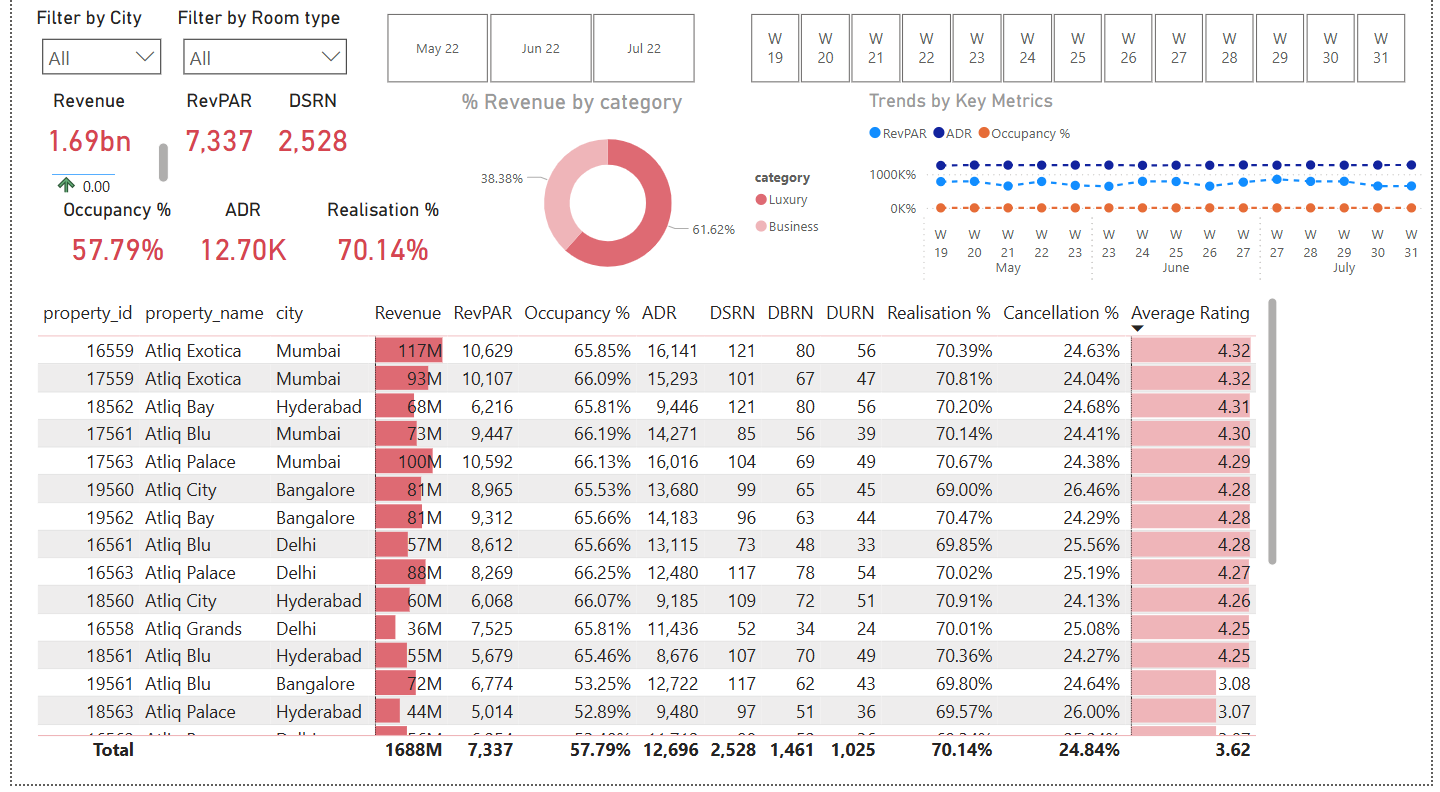

Layout of this report page (visuals, bound fields, positions):
{"tool":"powerbi","page":{"name":"Page 1","canvas":[1280,720],"ordinal":0},"visuals":[{"type":"tableEx","fields":{"Values":["dim_hotels.property_id","dim_hotels.property_name","dim_hotels.city","key_measures.Revenue","key_measures.RevPAR","key_measures.Occupancy %","key_measures.ADR","key_measures.DSRN","key_measures.DBRN","key_measures.DURN","key_measures.Realisation %","key_measures.Cancellation %"]},"box":[17.3,276.5,1129,429.1],"z":2000},{"type":"slicer","title":"Filter by City","fields":{"Values":["dim_hotels.city"]},"box":[16.8,18.5,127.7,75.6],"z":3000},{"type":"slicer","title":"Filter by Room type","fields":{"Values":["dim_rooms.room_class"]},"box":[144.5,18.5,168,75.6],"z":4000},{"type":"slicer","fields":{"Values":["dim_date.mmm yy"]},"box":[312.4,18.5,327.6,75.6],"z":5000},{"type":"slicer","fields":{"Values":["dim_date.week no"]},"box":[640,18.5,640,75.6],"z":6000},{"type":"donutChart","title":"% Revenue by category","fields":{"Category":["dim_hotels.category"],"Y":["key_measures.Revenue"]},"box":[400.3,93.6,342.7,182.9],"z":7000},{"type":"card","title":"RevPAR","fields":{"Values":["key_measures.RevPAR"]},"box":[144,93.6,85,70.6],"z":8000},{"type":"card","title":"DSRN","fields":{"Values":["key_measures.DSRN"]},"box":[229,93.6,85,70.6],"z":9000},{"type":"card","title":"Occupancy %","fields":{"Values":["key_measures.Occupancy %"]},"box":[28.8,191.5,131,70.6],"z":10000},{"type":"card","title":"ADR","fields":{"Values":["key_measures.ADR"]},"box":[145.4,191.5,125.3,70.6],"z":11000},{"type":"card","title":"Realisation %","fields":{"Values":["key_measures.Realisation %"]},"box":[267.8,191.5,132.5,70.6],"z":12000},{"type":"tableEx","title":"Revenue Weekly","fields":{"Values":["key_measures.\"Revenue WoW change %"]},"box":[28.8,136.8,116.6,54.7],"z":13000},{"type":"card","title":"Revenue","fields":{"Values":["key_measures.Revenue"]},"box":[17.3,93.6,105.1,70.6],"z":14000},{"type":"lineChart","title":"Trends by Key Metrics","fields":{"Category":["dim_date.mmm yy.Variation.Date Hierarchy.Month","dim_date.week no"],"Y":["key_measures.RevPAR","key_measures.ADR","key_measures.Occupancy %"]},"box":[767.5,93.6,512.6,182.9],"z":14001}]}

Visuals, with their boxes in screenshot pixels (x1, y1, x2, y2), scaled from the page's 1280x720 canvas onto the 1440x792 screenshot:
tableEx - dim_hotels.property_id x dim_hotels.property_name: box=[19, 304, 1290, 776]
"Filter by City" slicer: box=[19, 20, 163, 104]
"Filter by Room type" slicer: box=[163, 20, 352, 104]
slicer - dim_date.mmm yy: box=[351, 20, 720, 104]
slicer - dim_date.week no: box=[720, 20, 1439, 104]
"% Revenue by category" donutChart: box=[450, 103, 836, 304]
"RevPAR" card: box=[162, 103, 258, 181]
"DSRN" card: box=[258, 103, 353, 181]
"Occupancy %" card: box=[32, 211, 180, 288]
"ADR" card: box=[164, 211, 305, 288]
"Realisation %" card: box=[301, 211, 450, 288]
"Revenue Weekly" tableEx: box=[32, 150, 164, 211]
"Revenue" card: box=[19, 103, 138, 181]
"Trends by Key Metrics" lineChart: box=[863, 103, 1439, 304]
